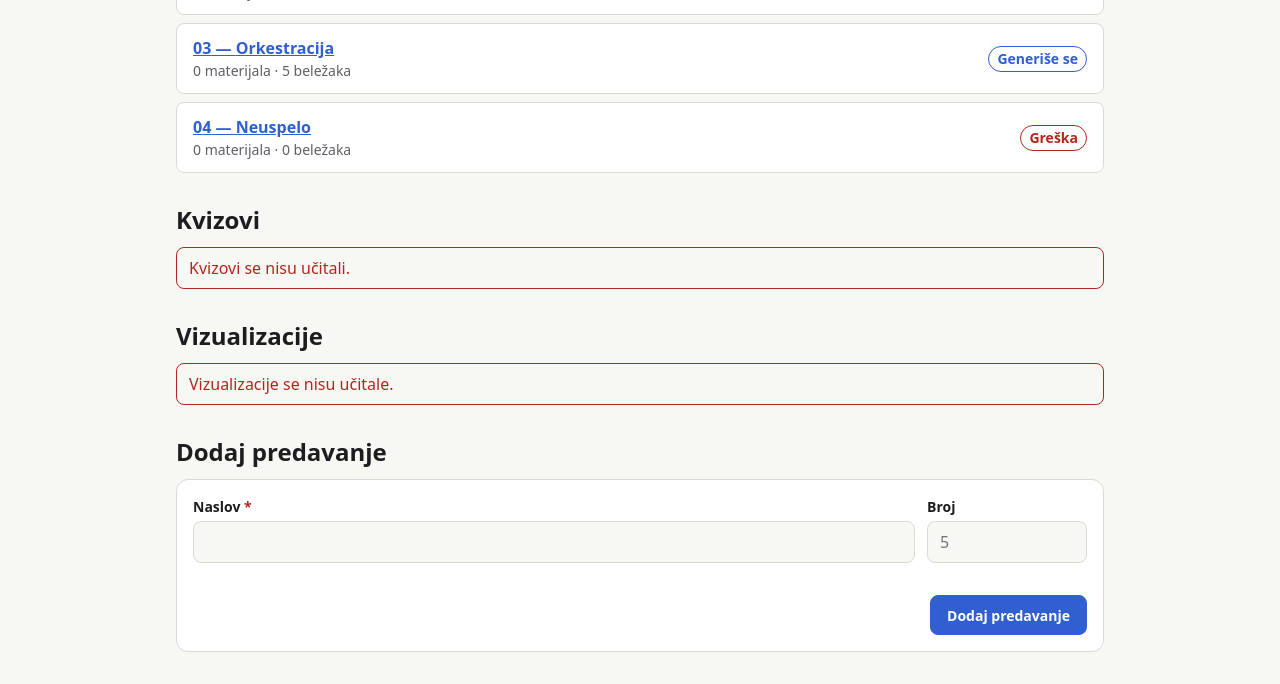
CoursePage › requires a title
This screenshot has width=1280, height=684.
(page scrolled)
Step 1. Click the button "Dodaj predavanje" → (1008, 615), box [930,595,1087,635]
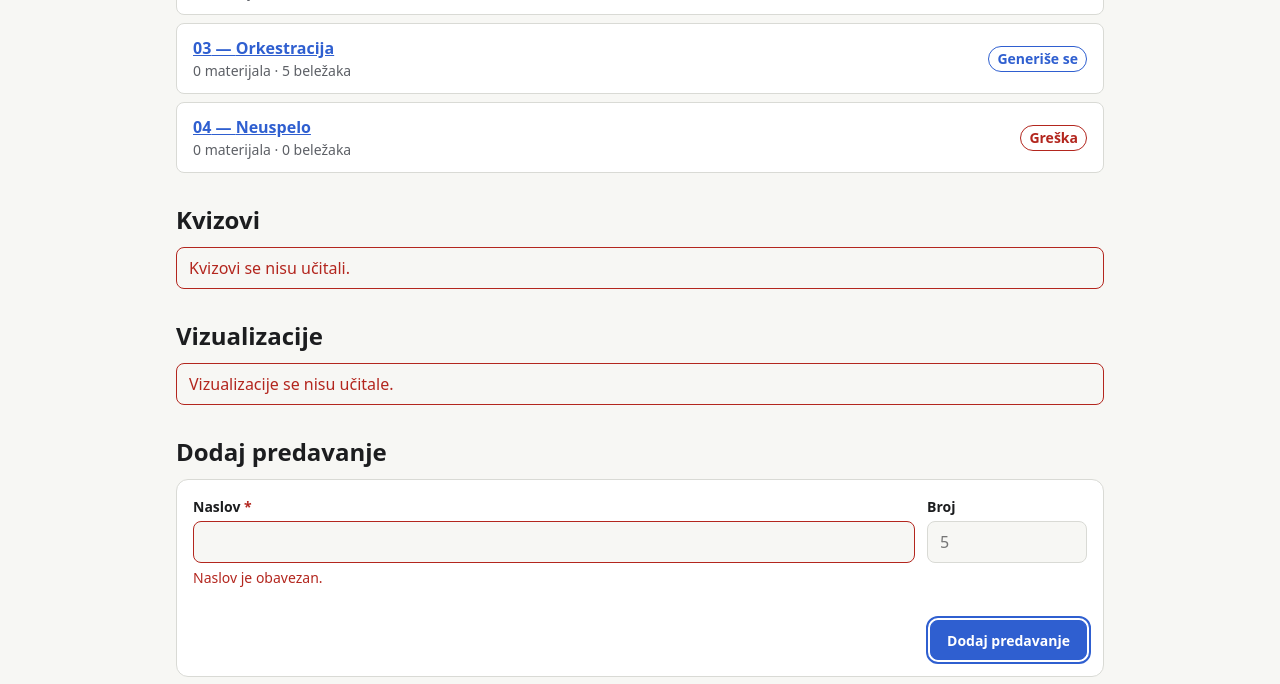
Now the text "Naslov je obavezan." is shown, box [193,568,322,587]
